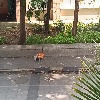fire: (37, 53, 45, 59)
